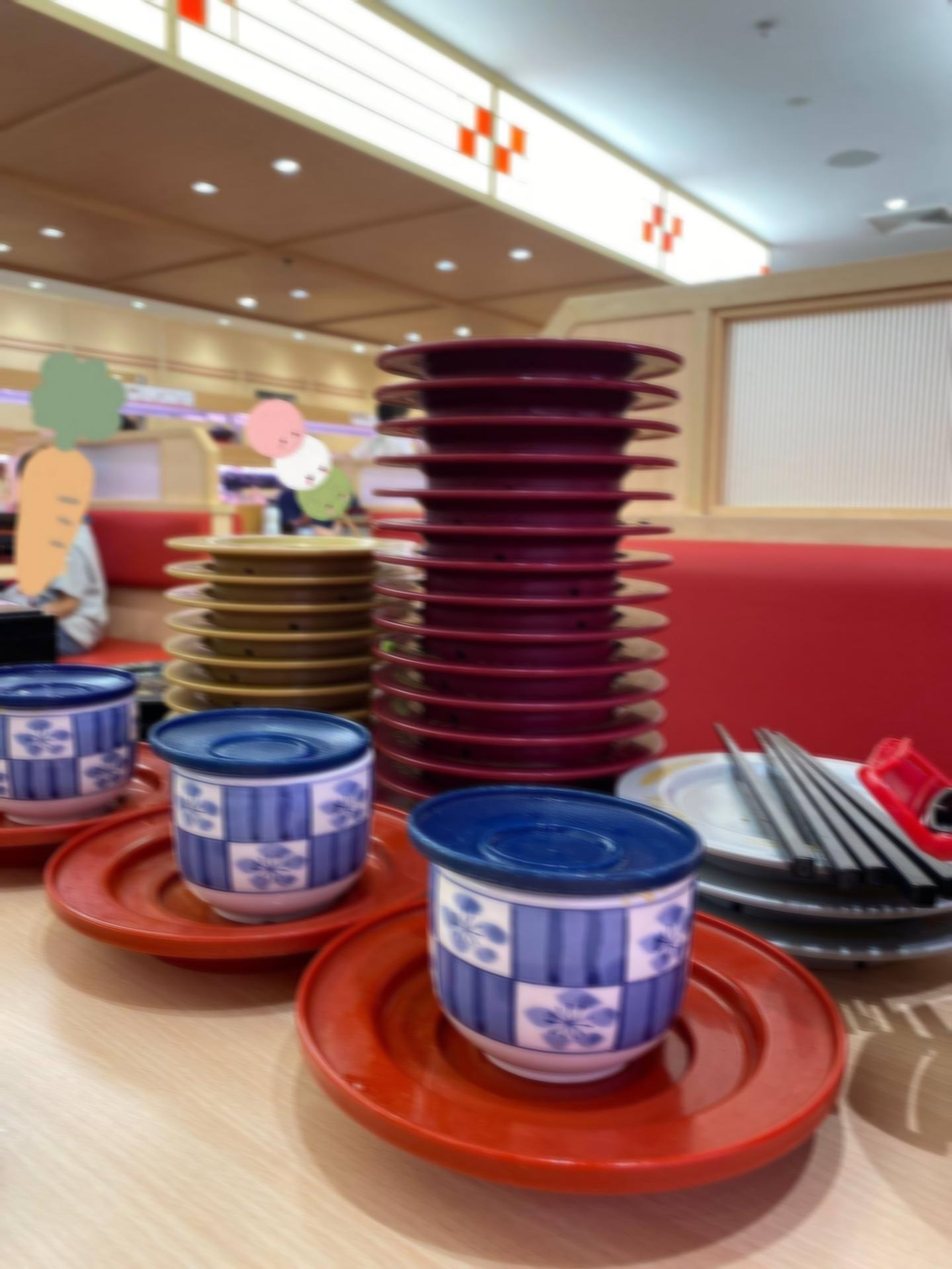Jangold: (158, 532, 376, 563), (164, 561, 369, 592), (168, 593, 375, 622), (173, 624, 370, 651), (176, 677, 370, 702), (179, 655, 366, 680)
Janred: (370, 321, 694, 371), (384, 373, 688, 407), (392, 552, 671, 582), (392, 680, 670, 710), (384, 411, 687, 438), (386, 519, 685, 546), (384, 448, 689, 474), (398, 745, 633, 776), (400, 619, 669, 646), (384, 485, 680, 509), (392, 652, 671, 676), (392, 588, 678, 610), (400, 721, 662, 741)
Janwhite: (660, 758, 875, 846), (729, 867, 952, 917), (792, 921, 952, 960)
